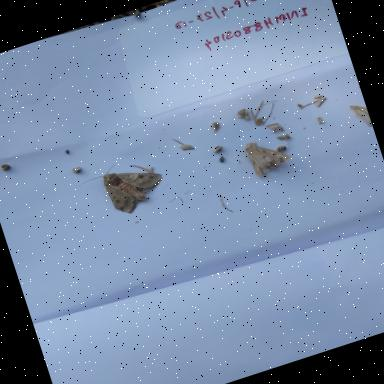abw: (69, 148, 173, 229), (240, 126, 296, 180)
